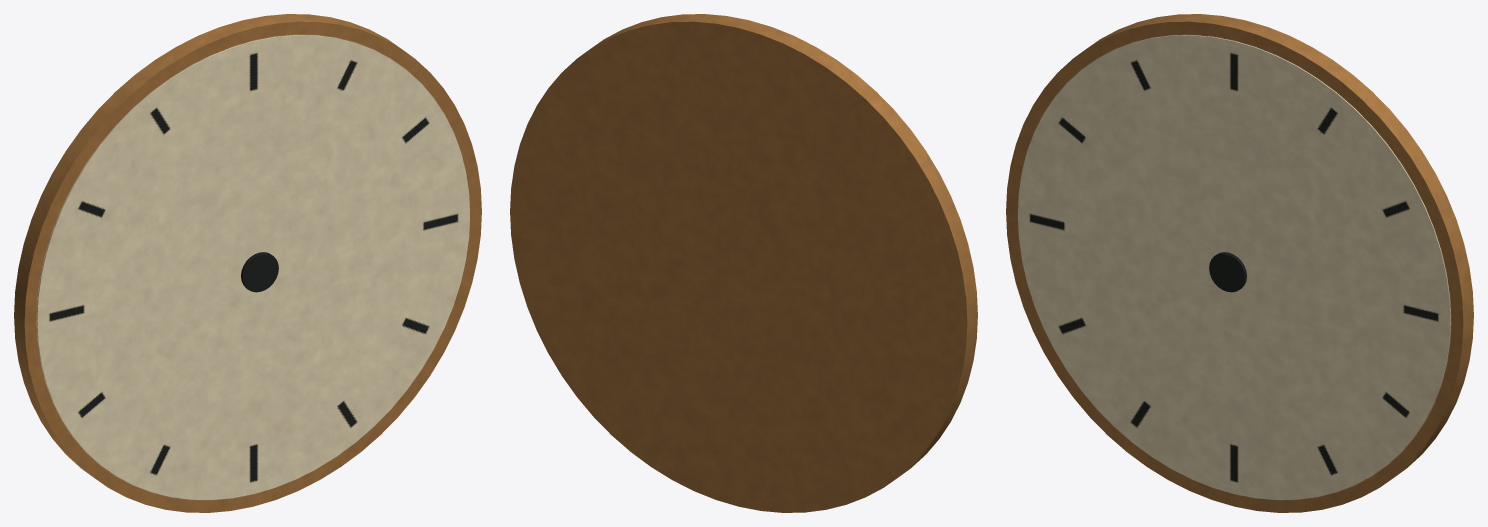
The model's file is clock-face.fbx.
The picture shows the model from 3 angles, left to right: view 1: azimuth 30°, elevation 25°; view 2: azimuth 150°, elevation 25°; view 3: azimuth 330°, elevation 25°; orthographic projection.
Visible parts, largest first — view 1: clock-face; view 2: clock-face; view 3: clock-face.
Boxes of the visible parts, box(x1,y1,x2,y2) form: clock-face: box(14, 14, 481, 512); clock-face: box(510, 14, 977, 512); clock-face: box(1006, 14, 1473, 512).
Size of the model in its own units: 5000 by 5000 by 347.
1 material, 1 textured.
